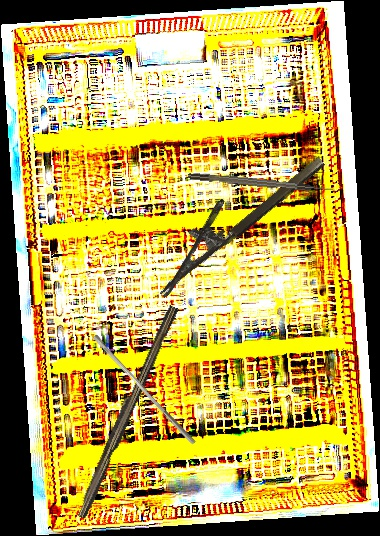Hook Surgical: (187, 171, 337, 195)
Needle Holder: (138, 134, 327, 299)
Pusher: (88, 333, 201, 446)
Scalpel Handle: (73, 302, 179, 521)
